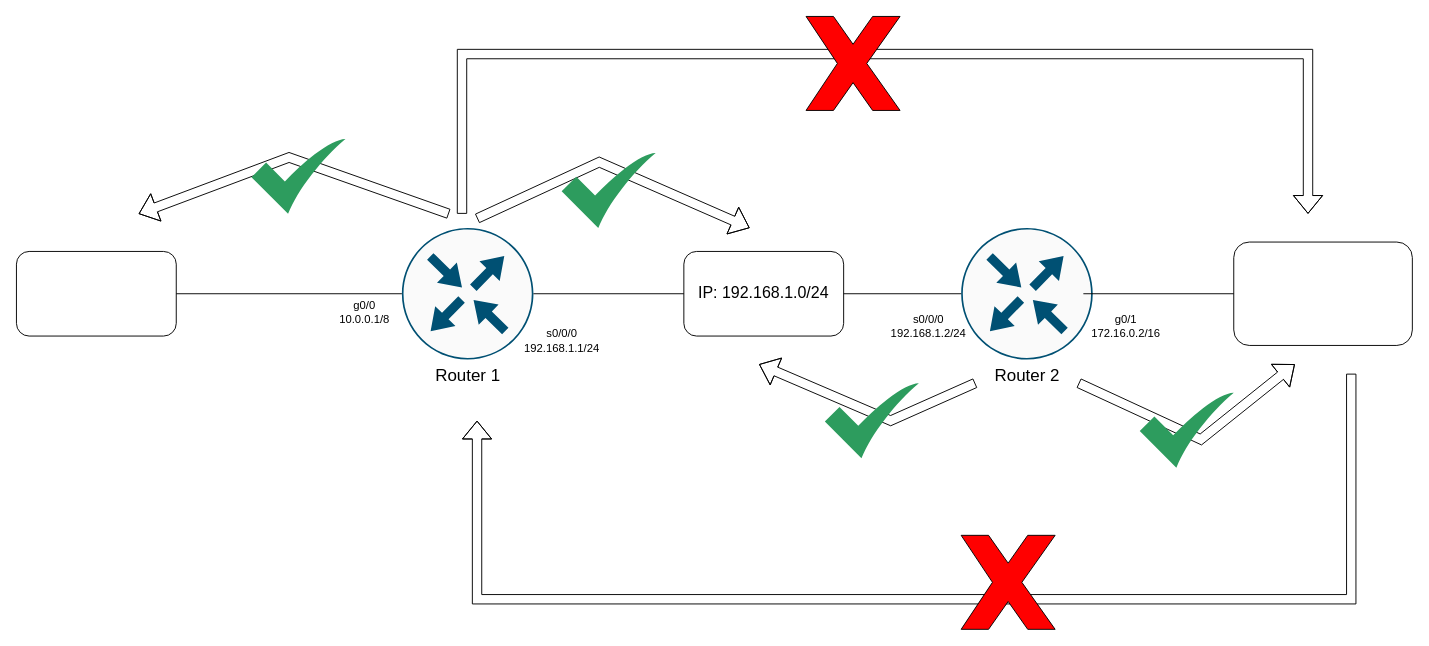
Some shapes in this 1429 by 646 pixel diagram are drawn without their labels. The shapes that lost their labels are listed below. From the top down, each one's box as (x1, y1, x2, y2) in pixels, then its label:
(16, 251, 176, 336): IP: 10.0.0.0/8
(1233, 241, 1412, 345): IP: 172.16.0.0/16
